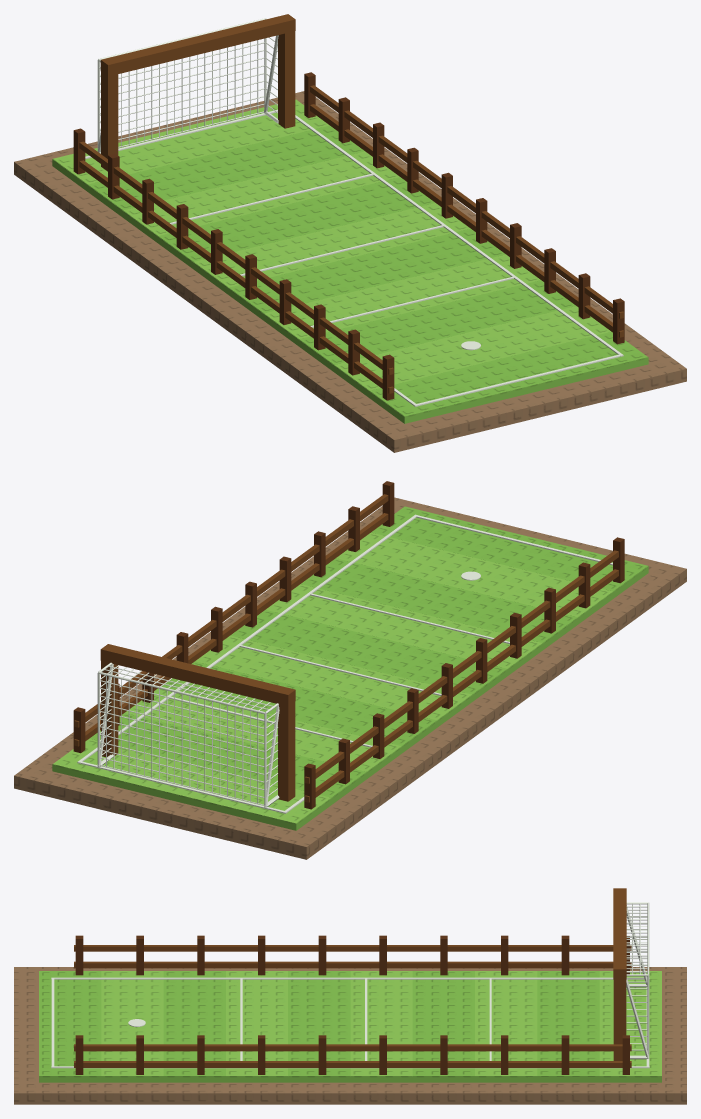
File: backyard-field.fbx
3 views of the same model, one above another, from view 1: azimuth 30°, elevation 25°; view 2: azimuth 150°, elevation 25°; view 3: azimuth 270°, elevation 25° (orthographic). The views are drawn at different scales.
Visible parts, largest first — view 1: BF_Grass_Stripes, BF_Earth_Base, BF_Fence_Rails, BF_Fence_Posts, BF_Goal_Timber, BF_Grass_Bed, BF_Goal_Net, BF_White_Markings, BF_Net_Rear_Frame; view 2: BF_Grass_Stripes, BF_Earth_Base, BF_Fence_Rails, BF_Fence_Posts, BF_Goal_Net, BF_Goal_Timber, BF_Grass_Bed, BF_White_Markings, BF_Net_Rear_Frame, BF_Goal_Supports; view 3: BF_Grass_Stripes, BF_Earth_Base, BF_Fence_Rails, BF_Fence_Posts, BF_Grass_Bed, BF_White_Markings, BF_Goal_Timber, BF_Goal_Net, BF_Goal_Supports, BF_Net_Rear_Frame.
Part boxes in pixels (bbox=[...]): BF_Grass_Stripes: bbox=[53, 99, 647, 416]; BF_Earth_Base: bbox=[14, 91, 686, 452]; BF_Fence_Rails: bbox=[79, 85, 623, 393]; BF_Fence_Posts: bbox=[73, 72, 624, 400]; BF_Goal_Timber: bbox=[100, 14, 295, 171]; BF_Grass_Bed: bbox=[52, 159, 648, 423]; BF_Goal_Net: bbox=[99, 37, 277, 147]; BF_White_Markings: bbox=[85, 109, 623, 406]; BF_Net_Rear_Frame: bbox=[97, 18, 266, 149]; BF_Grass_Stripes: bbox=[53, 506, 647, 823]; BF_Earth_Base: bbox=[14, 497, 686, 859]; BF_Fence_Rails: bbox=[74, 494, 618, 802]; BF_Fence_Posts: bbox=[73, 481, 624, 809]; BF_Goal_Net: bbox=[99, 665, 277, 805]; BF_Goal_Timber: bbox=[100, 644, 295, 801]; BF_Grass_Bed: bbox=[52, 566, 648, 830]; BF_White_Markings: bbox=[77, 514, 612, 813]; BF_Net_Rear_Frame: bbox=[97, 662, 278, 807]; BF_Goal_Supports: bbox=[97, 664, 279, 806]; BF_Grass_Stripes: bbox=[39, 971, 661, 1076]; BF_Earth_Base: bbox=[14, 967, 686, 1104]; BF_Fence_Rails: bbox=[74, 945, 631, 1067]; BF_Fence_Posts: bbox=[75, 935, 629, 1074]; BF_Grass_Bed: bbox=[39, 971, 661, 1082]; BF_White_Markings: bbox=[51, 977, 649, 1068]; BF_Goal_Timber: bbox=[613, 888, 626, 1060]; BF_Goal_Net: bbox=[626, 903, 648, 1050]; BF_Goal_Supports: bbox=[626, 905, 649, 1059]; BF_Net_Rear_Frame: bbox=[626, 902, 649, 1058].
Size of the model in its own units: 960 by 398 by 2160.
Materials: 6 (6 with a texture image).
